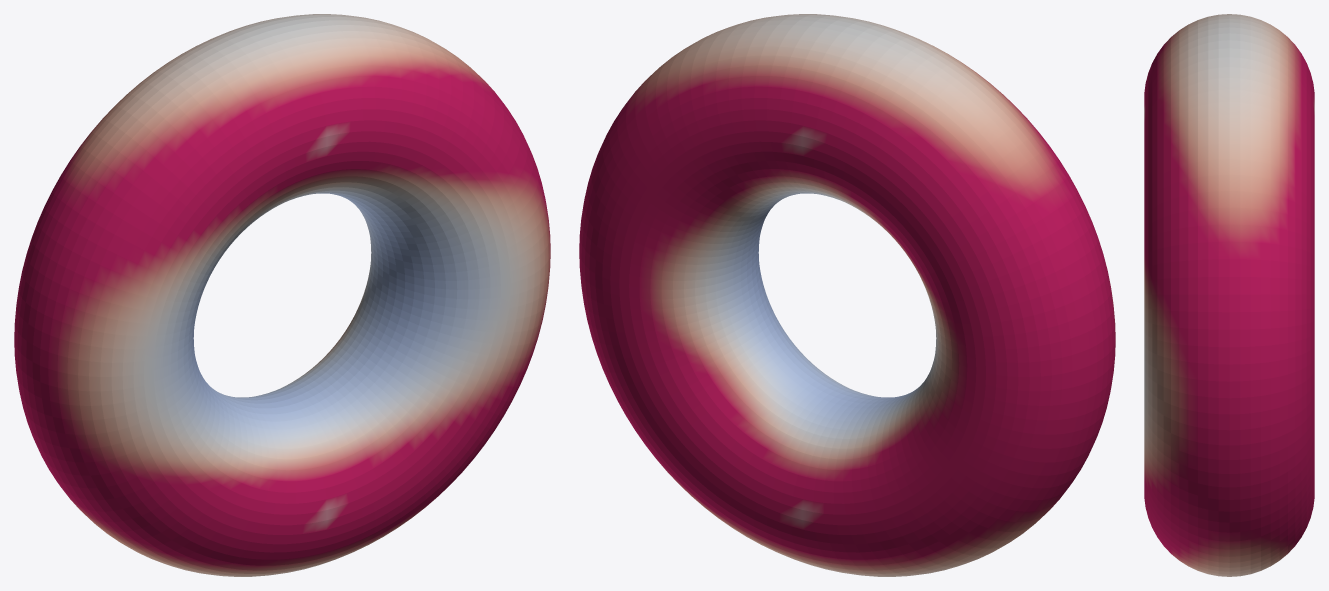
3 renders of one model, left to right at view 1: azimuth 30°, elevation 25°; view 2: azimuth 150°, elevation 25°; view 3: azimuth 270°, elevation 25°, orthographic. The views are drawn at different scales.
Visible parts, largest first — view 1: world; view 2: world; view 3: world.
Part boxes in pixels (x1,y1,x2,y2): world: [14, 14, 550, 576]; world: [579, 14, 1115, 576]; world: [1144, 14, 1314, 576].
Bounding box in the file's own units: 26.8 × 26.8 × 8.12.
